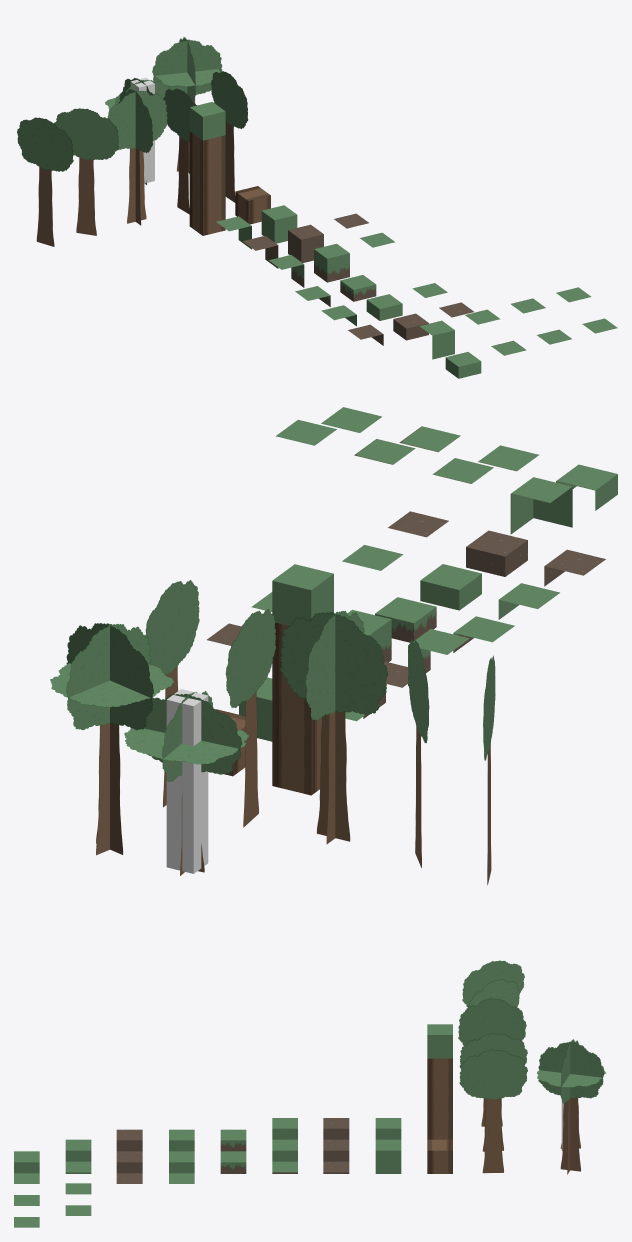
File: Grid_1st_lvl.glb
3 views of the same model, one above another, from view 1: azimuth 30°, elevation 25°; view 2: azimuth 150°, elevation 25°; view 3: azimuth 270°, elevation 25° (orthographic). The views are drawn at different scales.
Parts seen in each view (by area): view 1: Tree_wall-col, Tree_flat_2side, Tree_flat3, Tree_flat4, Tree_flat_no, Tree_flat, Tree_flat2, Grass-col, Grass_Grass-col, Tree_block-col, Dirt-col, Road_block-col (+9 smaller); view 2: Tree_flat_2side, Tree_flat_no, Tree_wall-col, Tree_flat_no2, Tree_flat_no-colonly.001, Tree_flat2, Tree_flat, Road_block-col, Tree_flat3, Half_Grass_Gr-col, Dirt_half-col, Half_Grass-col (+16 smaller); view 3: Tree_flat_no, Tree_flat, Tree_wall-col, Tree_flat_2side, Tree_flat4, Tree_flat2, Grass_Grass-col, Tree_block-col, Tree_flat3, Dirt-col, Road_block-col, Grass-col (+10 smaller).
Part boxes in pixels (bbox=[...]): Tree_wall-col: bbox=[189, 102, 225, 235]; Tree_flat_2side: bbox=[107, 89, 167, 225]; Tree_flat3: bbox=[54, 108, 118, 235]; Tree_flat4: bbox=[17, 117, 73, 246]; Tree_flat_no: bbox=[152, 37, 222, 173]; Tree_flat: bbox=[211, 71, 248, 202]; Tree_flat2: bbox=[163, 88, 196, 214]; Grass-col: bbox=[314, 243, 349, 282]; Grass_Grass-col: bbox=[261, 205, 297, 243]; Tree_block-col: bbox=[235, 186, 270, 224]; Dirt-col: bbox=[288, 224, 323, 262]; Road_block-col: bbox=[419, 320, 454, 359]; Tree_flat_2side: bbox=[280, 611, 387, 844]; Tree_flat_no: bbox=[50, 623, 174, 855]; Tree_wall-col: bbox=[272, 564, 333, 795]; Tree_flat_no2: bbox=[124, 691, 248, 875]; Tree_flat_no-colonly.001: bbox=[166, 689, 208, 873]; Tree_flat2: bbox=[225, 609, 275, 827]; Tree_flat: bbox=[145, 580, 199, 807]; Road_block-col: bbox=[510, 477, 572, 534]; Tree_flat3: bbox=[408, 638, 429, 867]; Half_Grass_Gr-col: bbox=[420, 564, 481, 610]; Dirt_half-col: bbox=[466, 530, 527, 576]; Half_Grass-col: bbox=[375, 597, 436, 642]; Tree_flat_no: bbox=[537, 1039, 605, 1174]; Tree_flat: bbox=[459, 1049, 527, 1173]; Tree_wall-col: bbox=[427, 1024, 452, 1139]; Tree_flat_2side: bbox=[458, 998, 526, 1126]; Tree_flat4: bbox=[462, 960, 524, 1007]; Tree_flat2: bbox=[459, 1033, 527, 1151]; Grass_Grass-col: bbox=[375, 1139, 401, 1173]; Tree_block-col: bbox=[427, 1139, 452, 1173]; Tree_flat3: bbox=[468, 979, 519, 1007]; Dirt-col: bbox=[323, 1139, 349, 1173]; Road_block-col: bbox=[65, 1139, 91, 1173]; Grass-col: bbox=[272, 1139, 297, 1173].
Size of what is drawn, in the model's own units: 15.05 by 6.24 by 23.38.
Materials: 9 (9 with a texture image).
